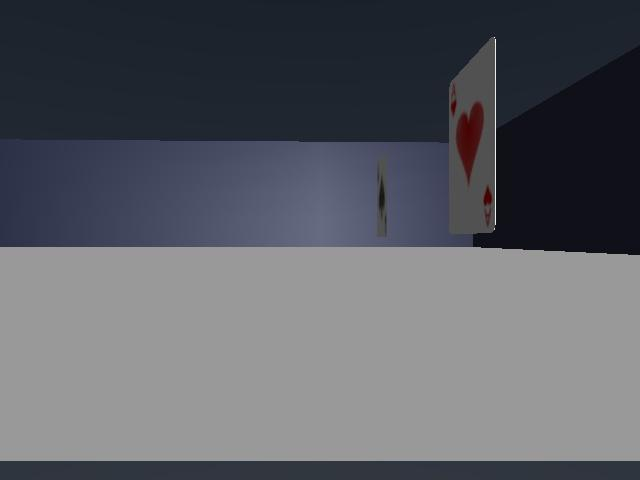club: (377, 156, 387, 237)
heart: (449, 38, 495, 233)
